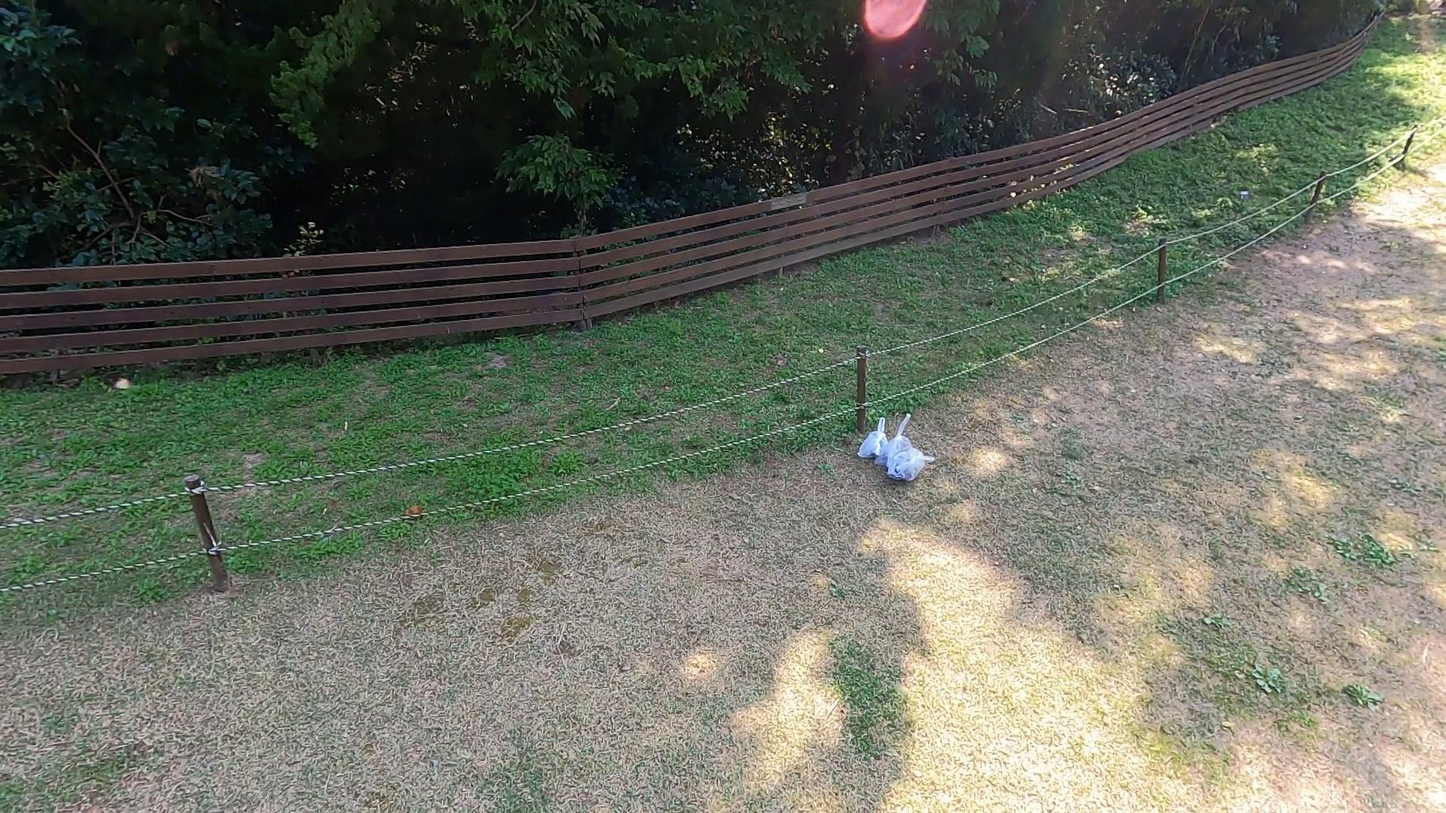trash: (876, 409, 921, 470), (884, 441, 941, 486), (854, 414, 887, 468)
